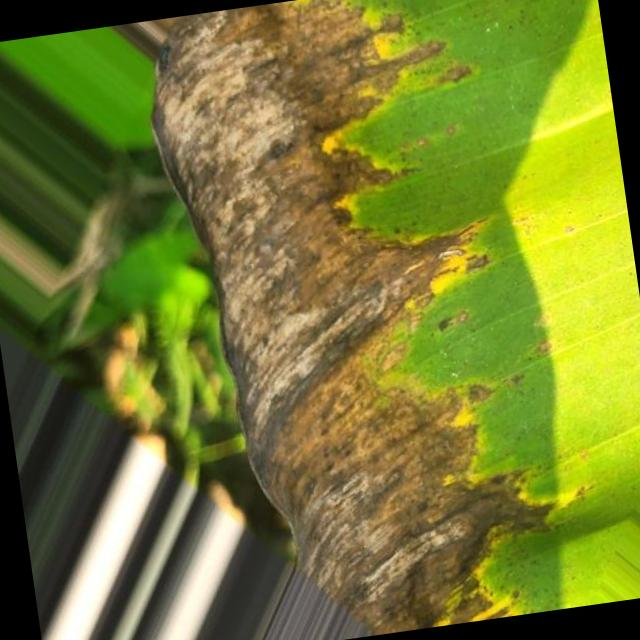Banana_Black_Sigatoka: (219, 254, 555, 640), (135, 0, 507, 294)
